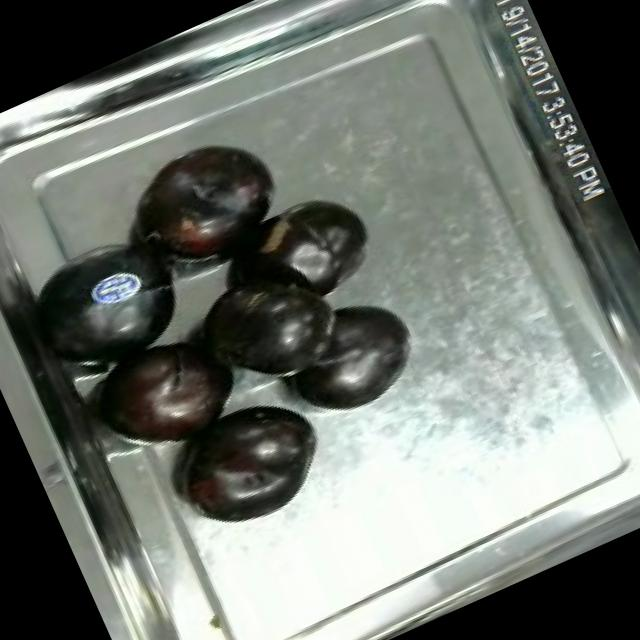Fruit: (169, 233, 368, 418), (154, 376, 348, 550), (110, 114, 301, 290), (74, 307, 265, 480), (261, 274, 438, 438), (255, 175, 391, 309)
